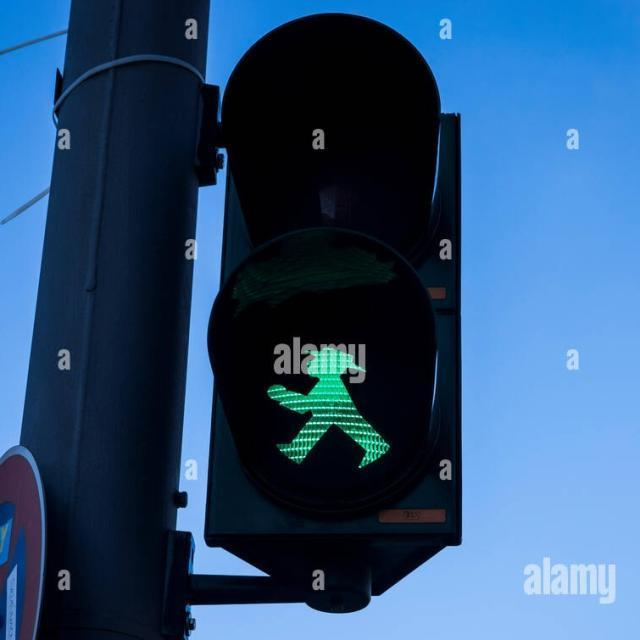geen-crossing: (263, 337, 397, 483)
